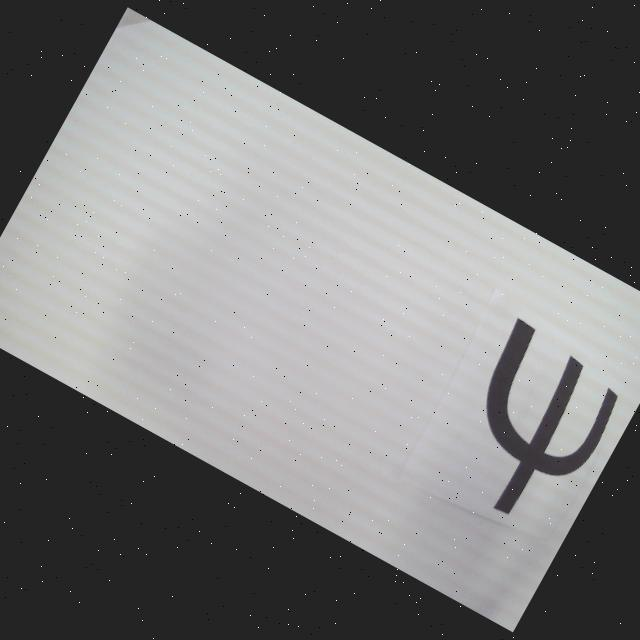PSI: (430, 316, 634, 538)
